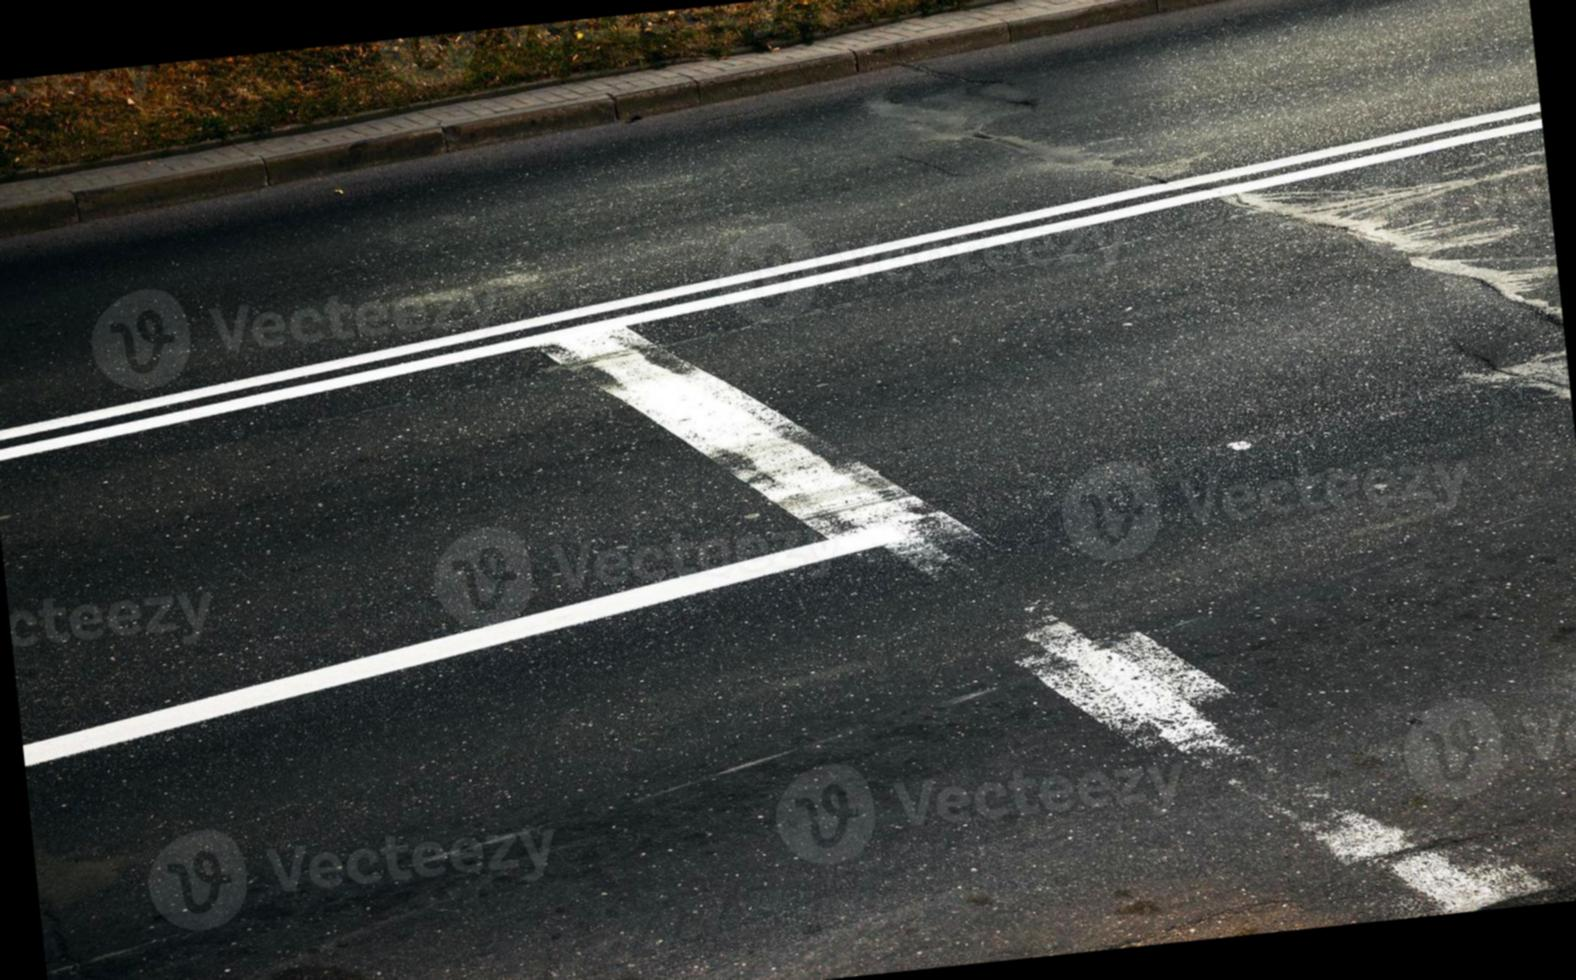faded_road_lines: (533, 237, 1555, 980)
